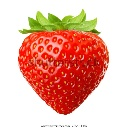strawberry: (16, 10, 110, 116)
